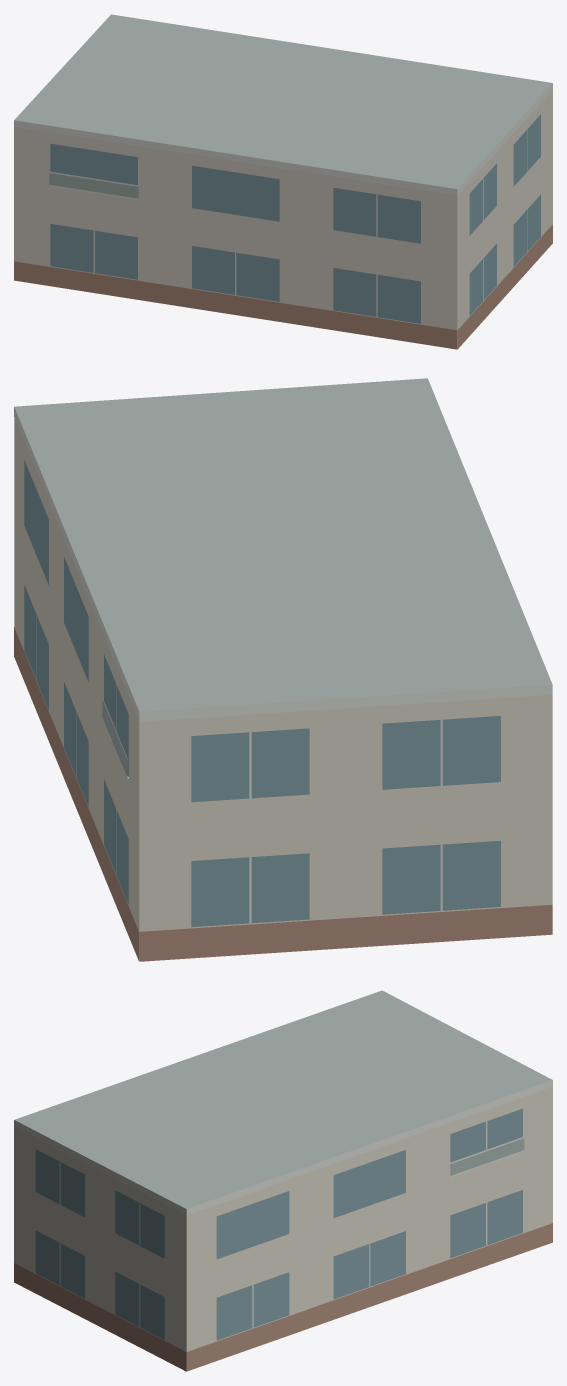
Rendered from survey-upis-32938535.glb.
3 views of the same model, one above another, from view 1: azimuth 30°, elevation 25°; view 2: azimuth 150°, elevation 25°; view 3: azimuth 270°, elevation 25° (orthographic). The views are drawn at different scales.
Parts seen in each view (by area): view 1: survey-upis-32938535.tmp; view 2: survey-upis-32938535.tmp; view 3: survey-upis-32938535.tmp.
Boxes of the visible parts, <box> form: survey-upis-32938535.tmp: <box>14,14,552,349</box>; survey-upis-32938535.tmp: <box>14,378,552,961</box>; survey-upis-32938535.tmp: <box>14,990,552,1371</box>.
Size of the model in its own units: 17.61 by 6.1 by 18.34.
